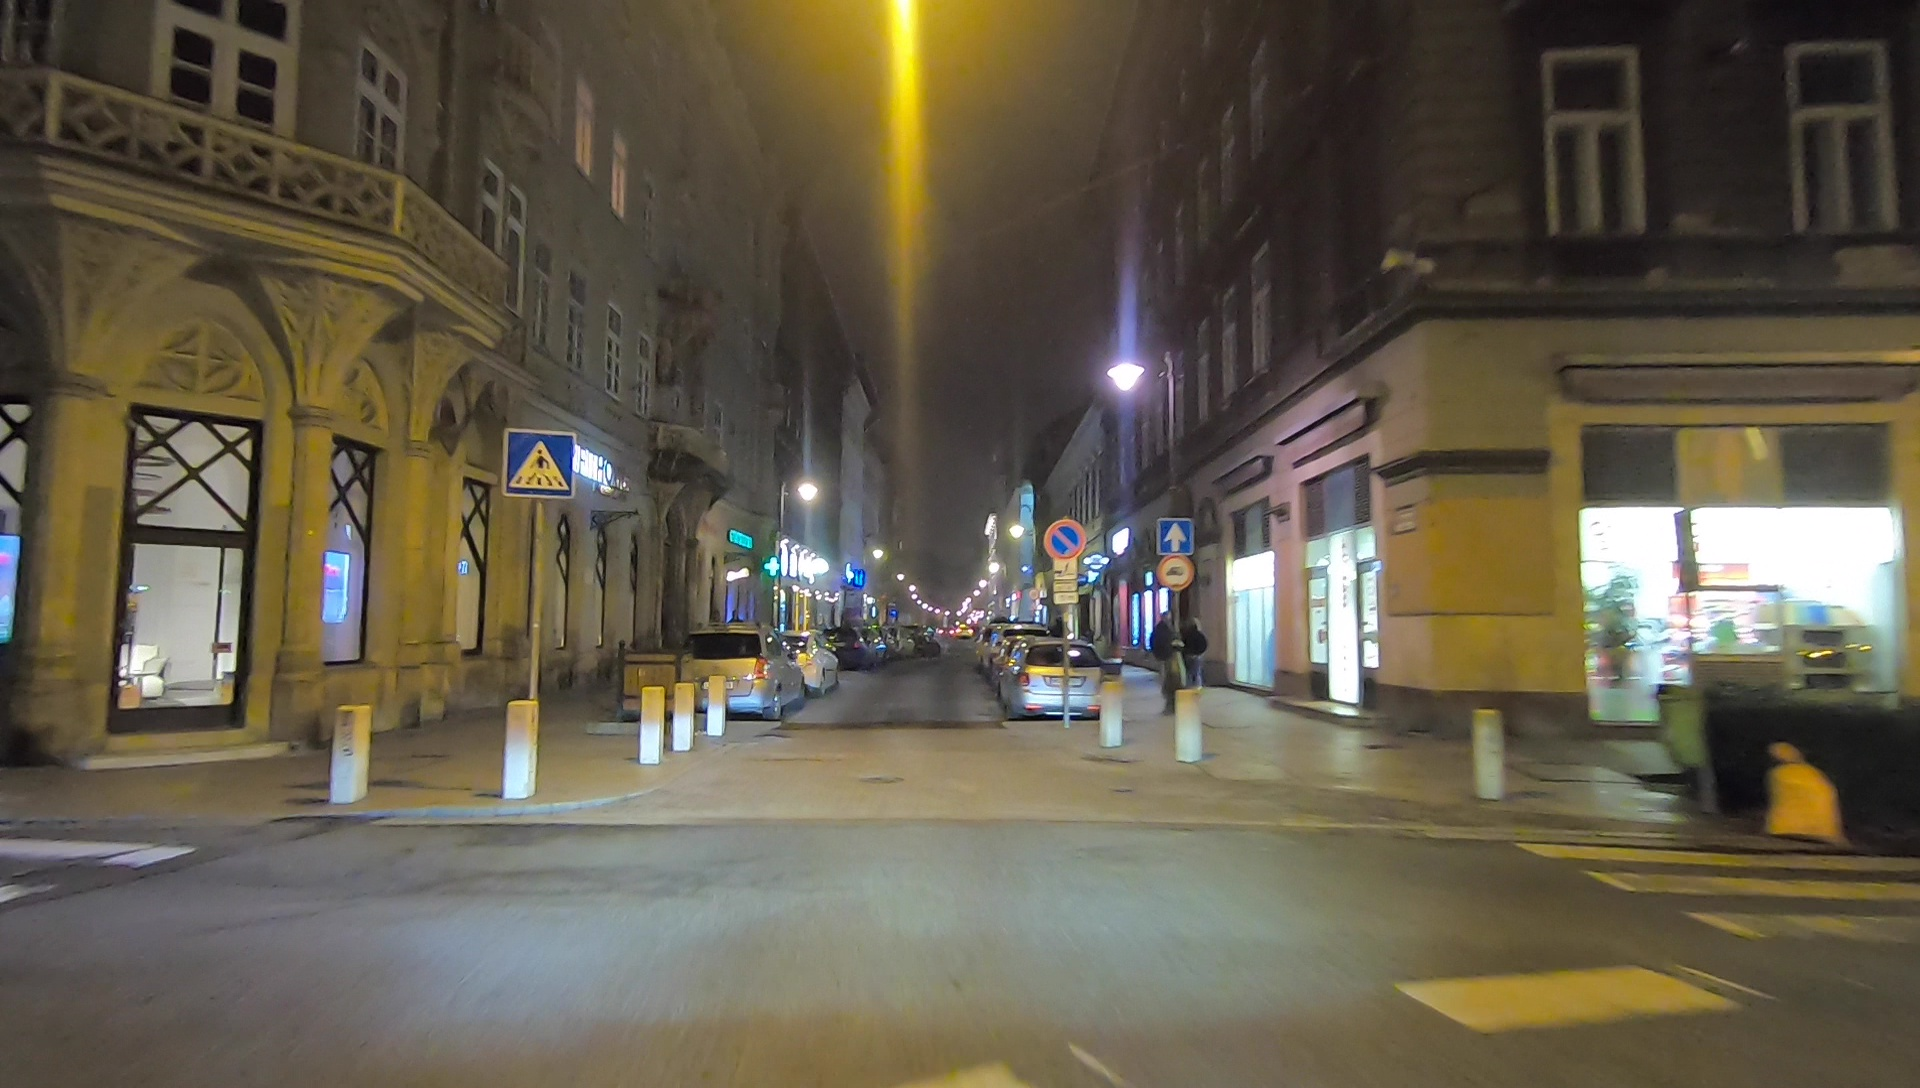person: (1154, 611, 1178, 700), (1182, 613, 1206, 695)
